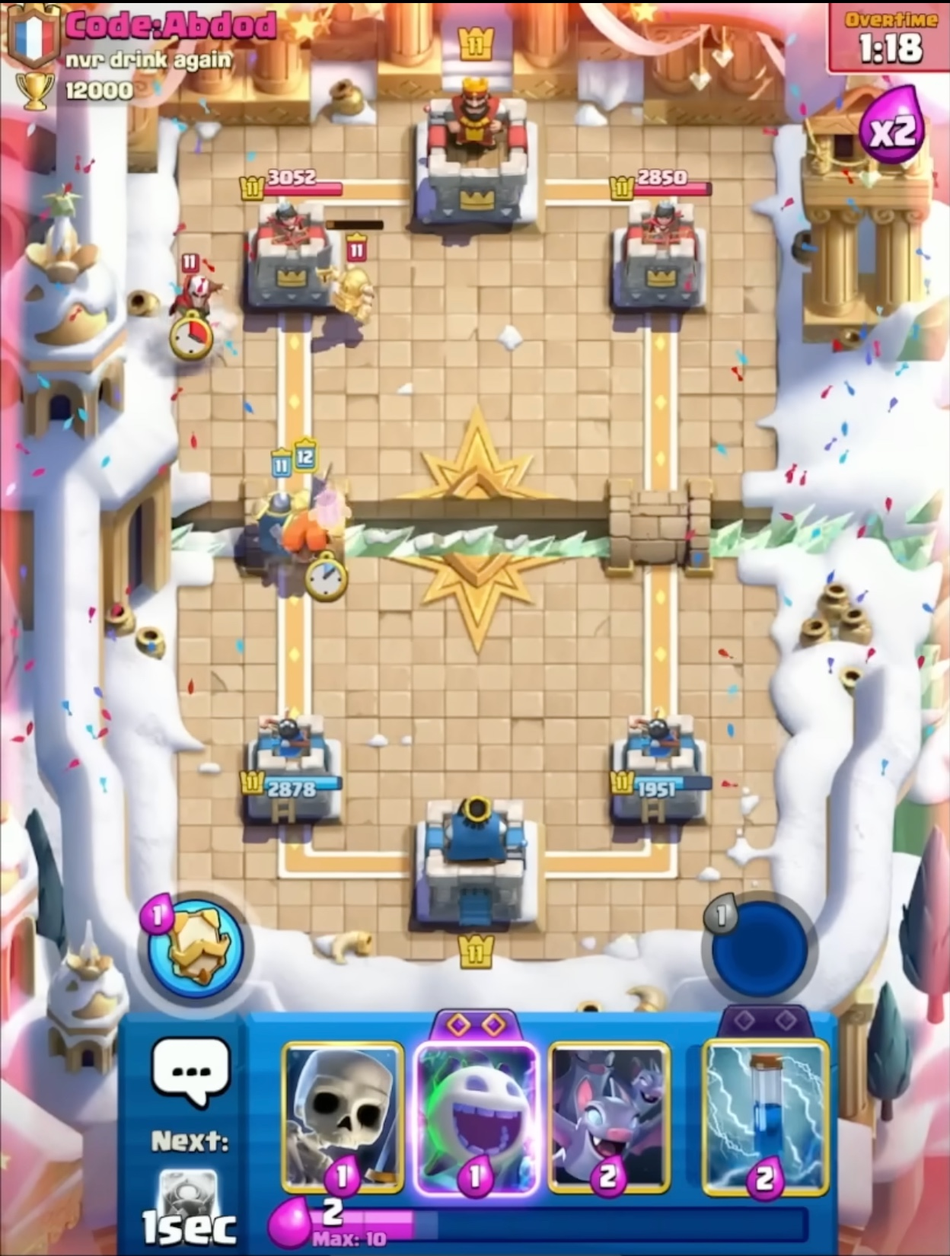magic-archer: (164, 250, 227, 363)
mini-pekka: (316, 216, 390, 325)
